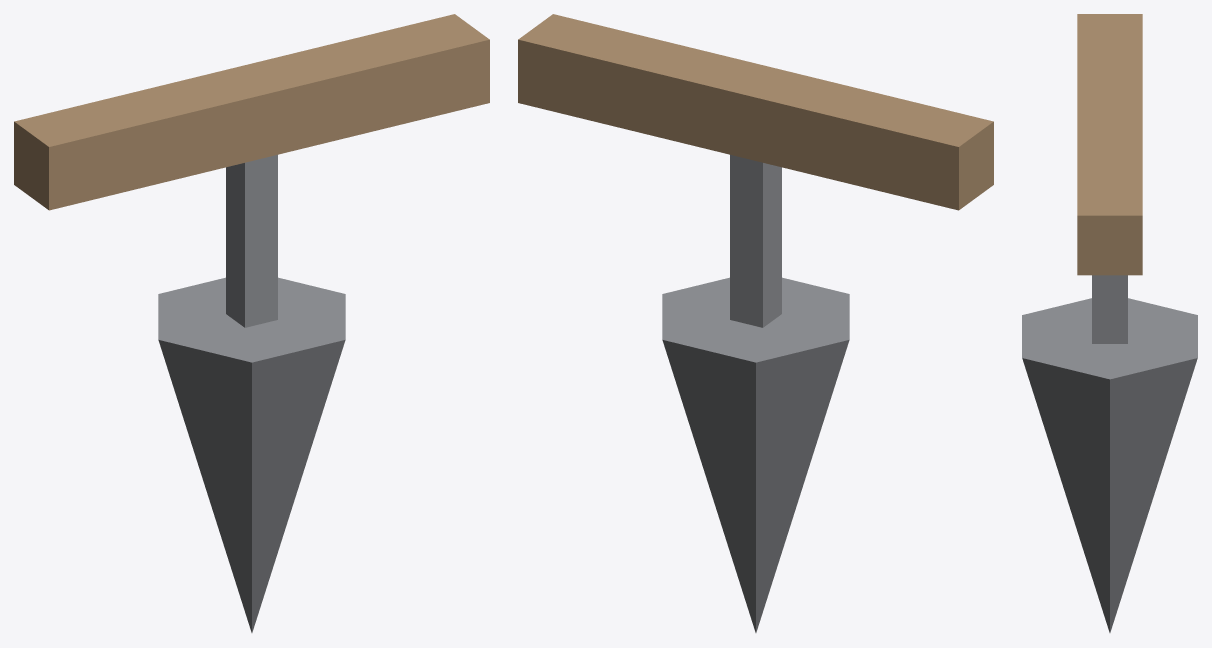
Rendered from prop-bunghole-reamer-bb1.fbx.
3 views of the same model, side by side, from view 1: azimuth 30°, elevation 25°; view 2: azimuth 150°, elevation 25°; view 3: azimuth 270°, elevation 25° (orthographic). The views are drawn at different scales.
Visible parts, largest first — view 1: prop-bunghole-reamer-bb1; view 2: prop-bunghole-reamer-bb1; view 3: prop-bunghole-reamer-bb1.
Boxes of the visible parts, x1,y1,x2,y2 form: prop-bunghole-reamer-bb1: [14, 14, 489, 632]; prop-bunghole-reamer-bb1: [518, 14, 993, 632]; prop-bunghole-reamer-bb1: [1022, 14, 1197, 632].
Bounding box in the file's own units: 16 × 19.2 × 5.89.
